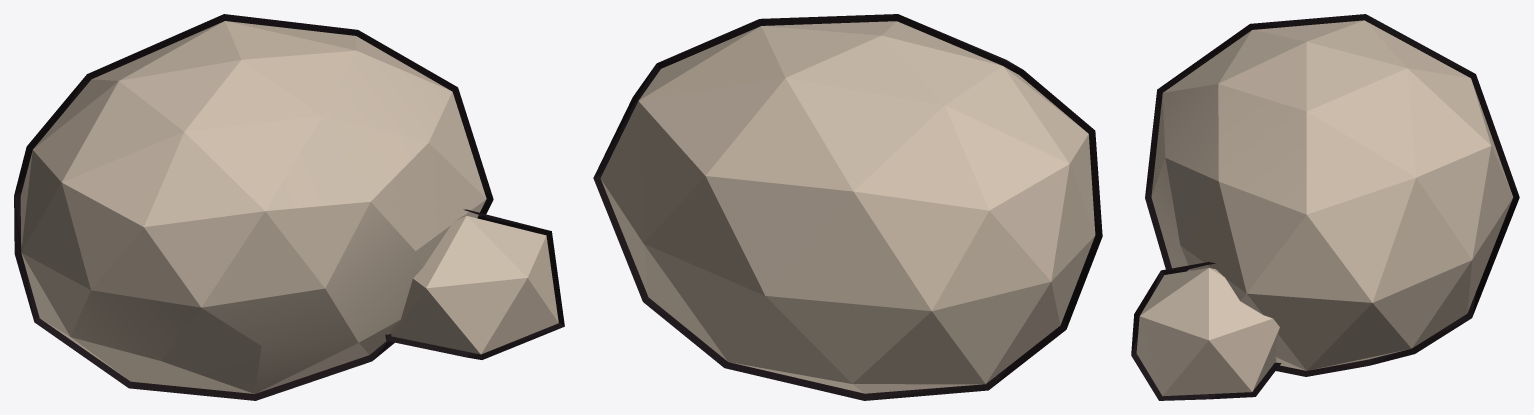
File: SM_Rock_01.fbx
The picture shows the model from 3 angles, left to right: view 1: azimuth 30°, elevation 25°; view 2: azimuth 150°, elevation 25°; view 3: azimuth 270°, elevation 25°; orthographic projection. The views are drawn at different scales.
Parts seen in each view (by area): view 1: SM_Rock_01; view 2: SM_Rock_01; view 3: SM_Rock_01.
Boxes of the visible parts, <box> form: SM_Rock_01: <box>14,14,564,400</box>; SM_Rock_01: <box>593,14,1102,400</box>; SM_Rock_01: <box>1131,14,1519,400</box>.
Bounding box in the file's own units: 2.24 × 1.45 × 1.79.
